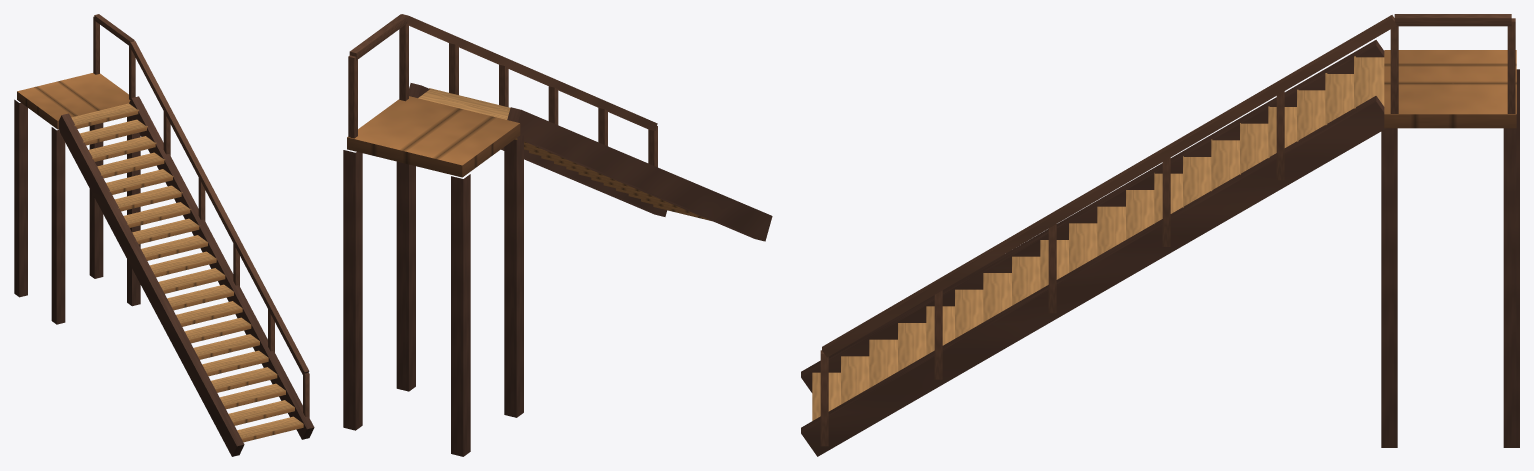
Rendered from stairs_wood_01.glb.
3 views of the same model, side by side, from view 1: azimuth 30°, elevation 25°; view 2: azimuth 150°, elevation 25°; view 3: azimuth 270°, elevation 25° (orthographic). The views are drawn at different scales.
Visible parts, largest first — view 1: stairs_wood_01; view 2: stairs_wood_01; view 3: stairs_wood_01.
Part boxes in pixels (x1,y1,x2,y2): stairs_wood_01: [14, 14, 314, 456]; stairs_wood_01: [343, 14, 772, 456]; stairs_wood_01: [801, 14, 1519, 456].
Size of the model in its own units: 1.56 by 4.77 by 7.06.
1 material, 1 textured.
